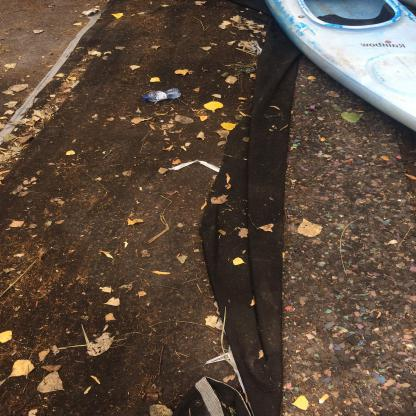plastik: (142, 89, 182, 103)
